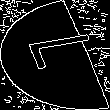L_E: (11, 33, 99, 77)
